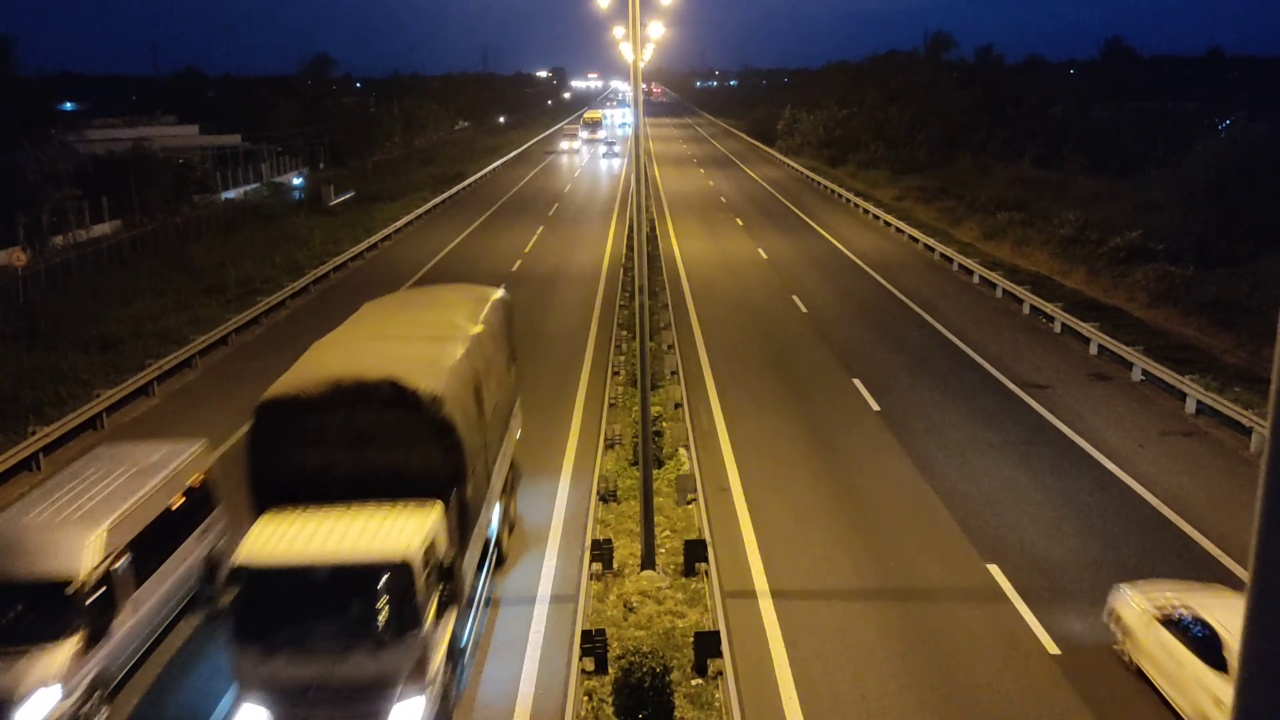car: (1101, 577, 1247, 718)
